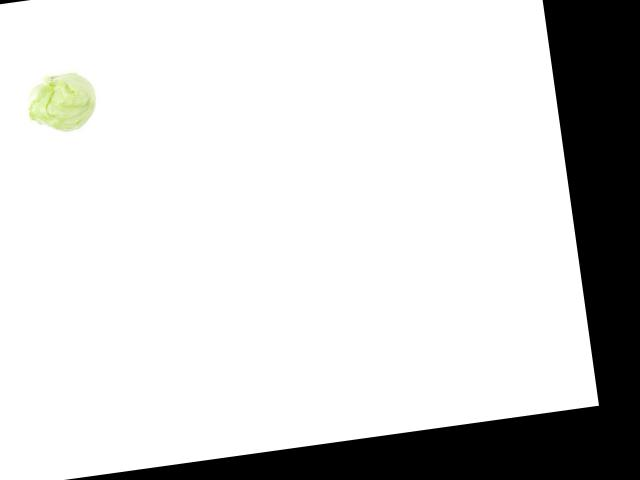lettuce: (16, 69, 106, 143)
